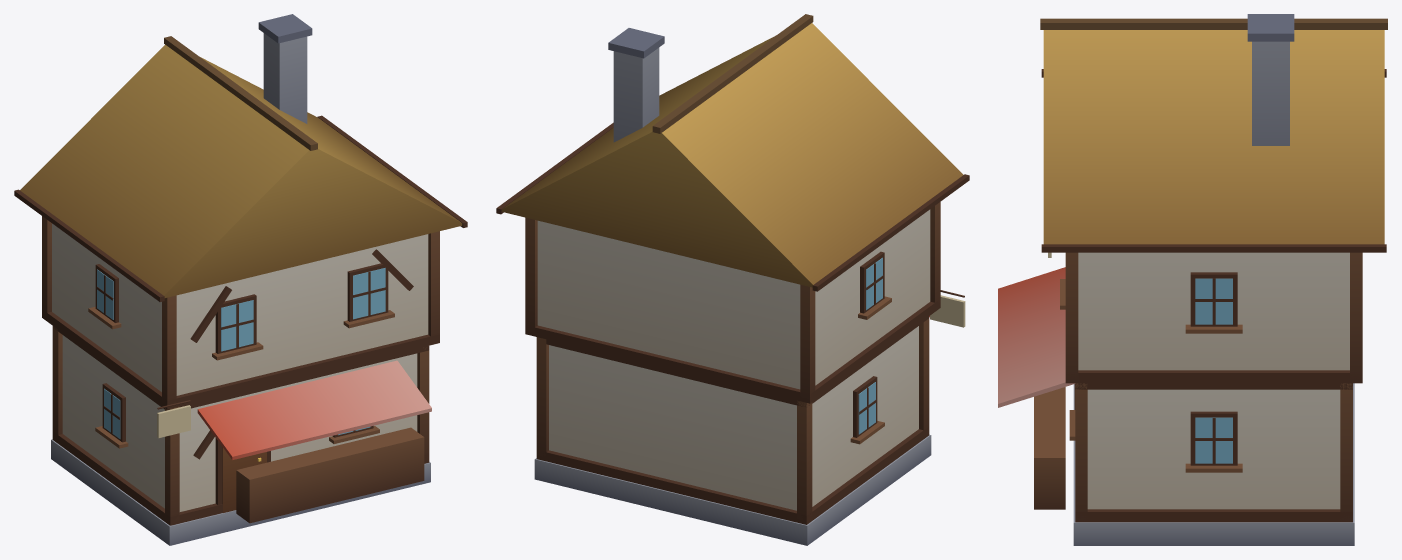
The model's file is house_shop.glb.
3 views of the same model, side by side, from view 1: azimuth 30°, elevation 25°; view 2: azimuth 150°, elevation 25°; view 3: azimuth 270°, elevation 25° (orthographic). The views are drawn at different scales.
Visible parts, largest first — view 1: house_shop; view 2: house_shop; view 3: house_shop.
Boxes of the visible parts, x1,y1,x2,y2 form: house_shop: [14, 14, 467, 545]; house_shop: [496, 14, 969, 545]; house_shop: [998, 14, 1387, 545].
Size of the model in its own units: 6.66 by 8.49 by 6.17.
